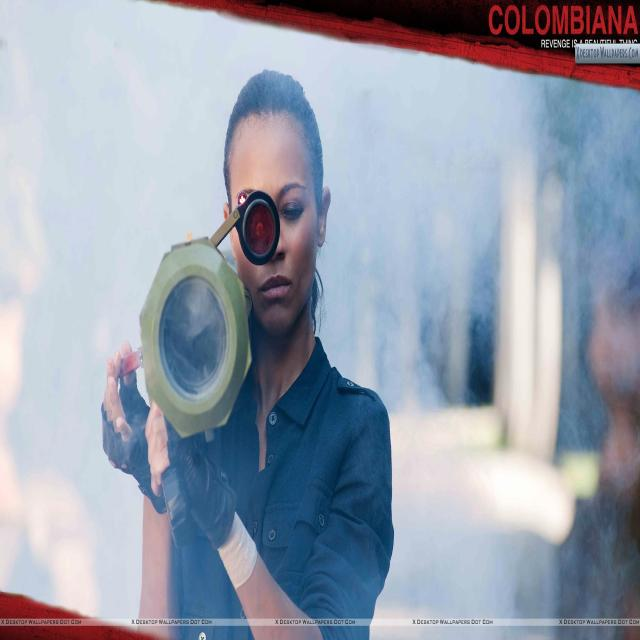bazooka: (115, 194, 264, 455)
